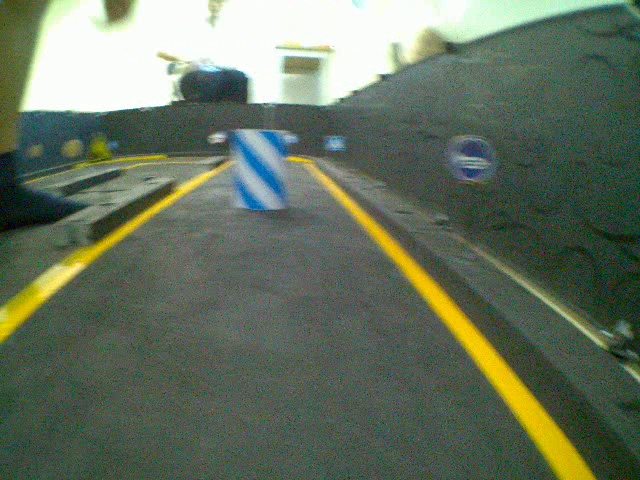bucket: (230, 126, 289, 213)
